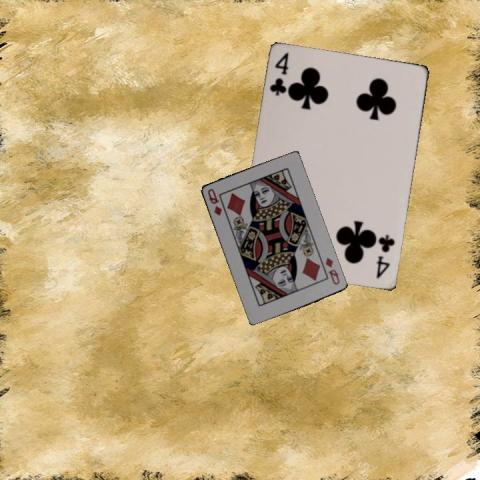4c: (373, 231, 397, 280), (267, 50, 290, 97)
Qd: (322, 254, 341, 286), (204, 185, 222, 217)
